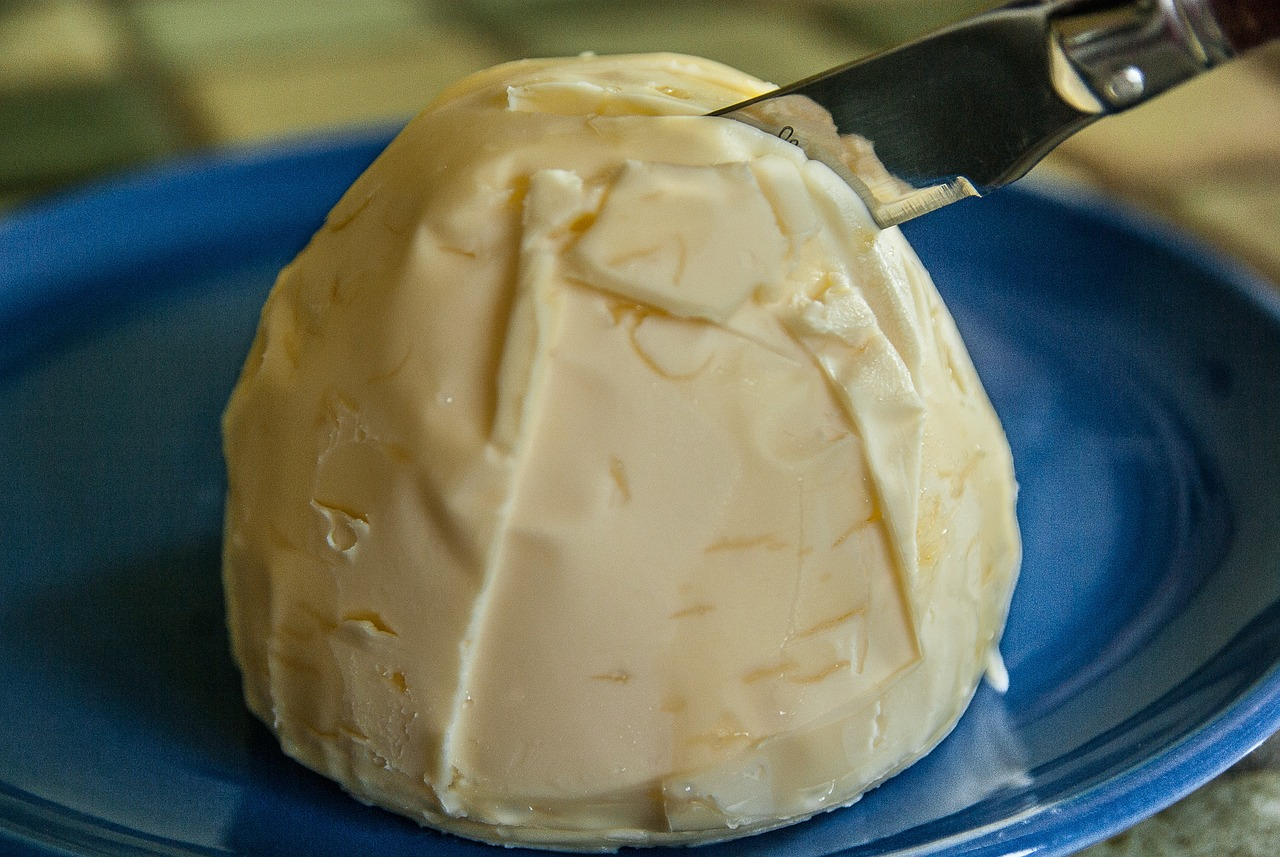knife: (676, 0, 1280, 259)
